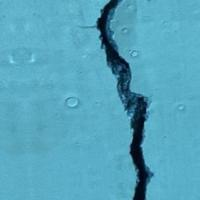crack: (82, 0, 161, 199)
